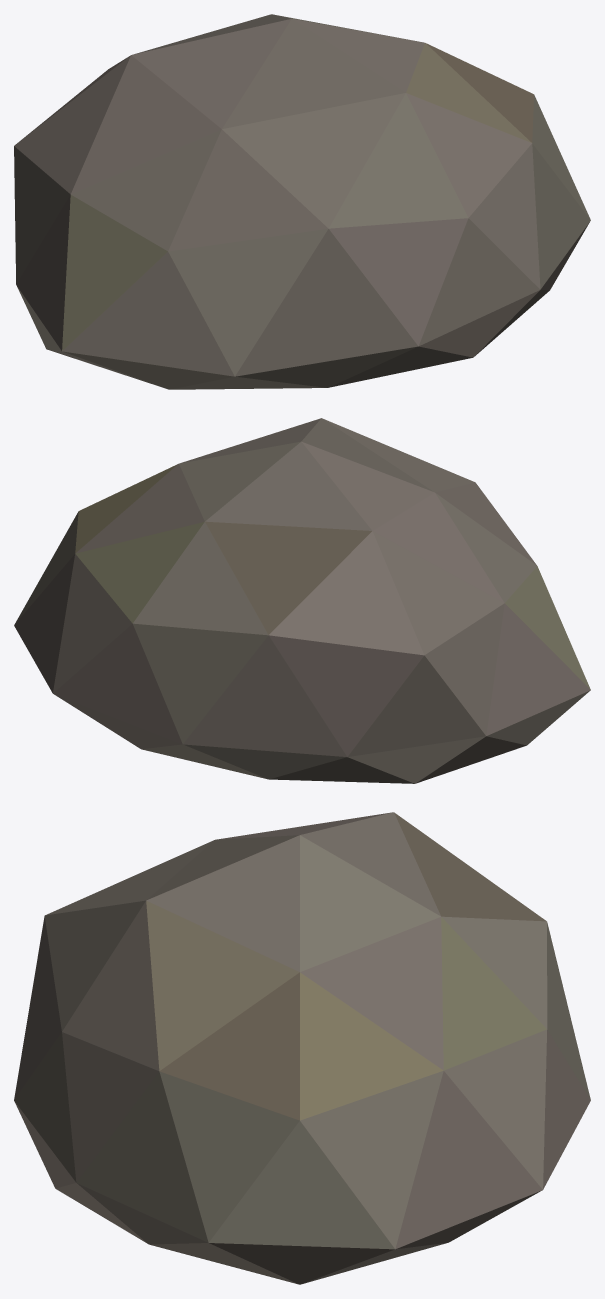
Rendered from env_kopje_b.glb.
3 views of the same model, one above another, from view 1: azimuth 30°, elevation 25°; view 2: azimuth 150°, elevation 25°; view 3: azimuth 270°, elevation 25° (orthographic). The views are drawn at different scales.
Parts seen in each view (by area): view 1: env_kopje_b; view 2: env_kopje_b; view 3: env_kopje_b.
Part boxes in pixels (x1,y1,x2,y2): env_kopje_b: (14,14,590,389); env_kopje_b: (14,418,590,783); env_kopje_b: (14,812,590,1284).
Size of the model in its own units: 4.87 by 2.64 by 3.97.
